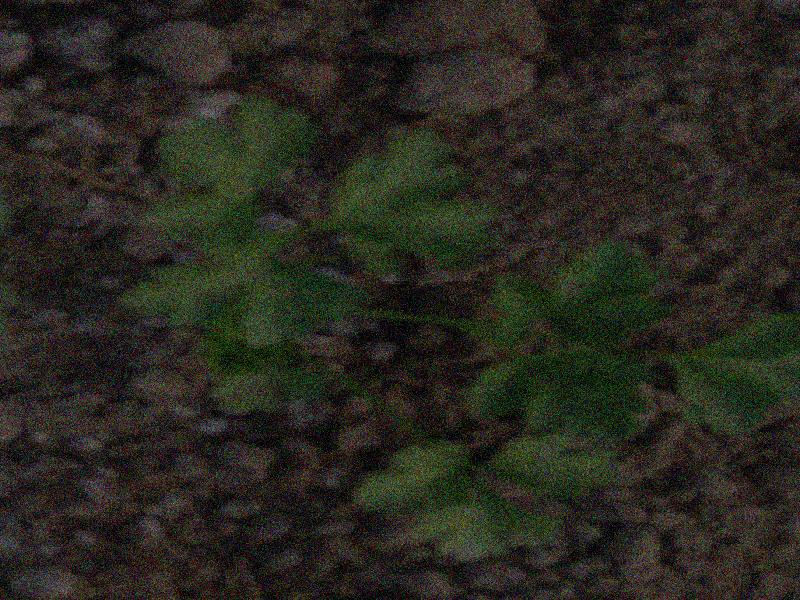radish: (117, 0, 800, 585)
